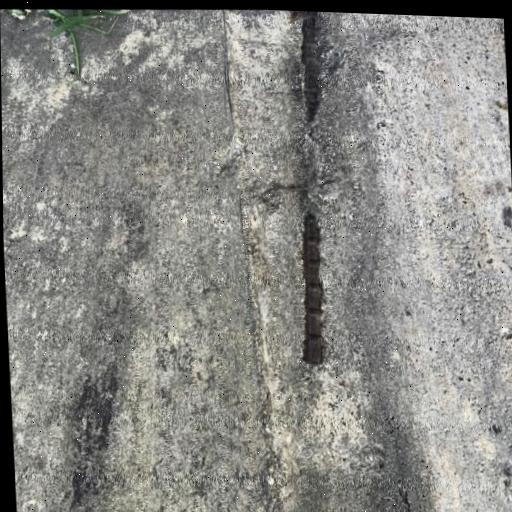exposed_rebar: (289, 11, 320, 121), (302, 212, 323, 363)
